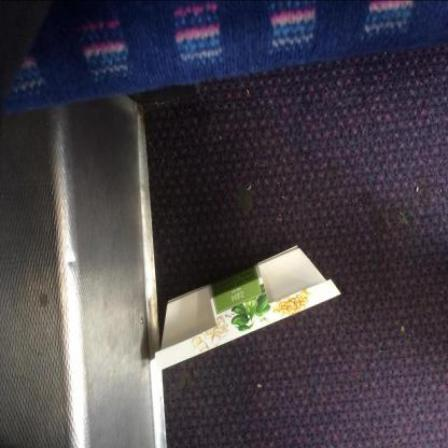Carton: (155, 246, 342, 373)
